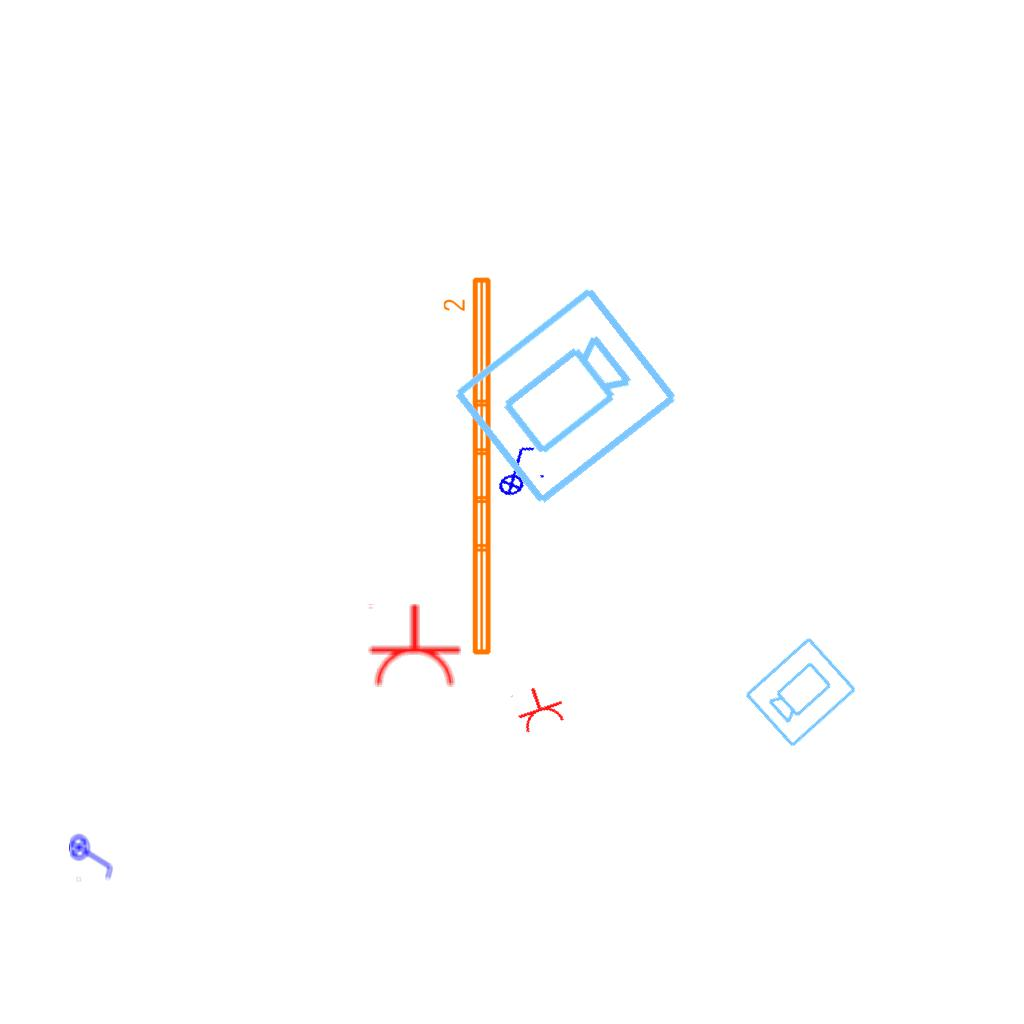Ambulanz_Pendelleuchte_LED: (441, 273, 497, 660)
Ausschalter_beleuchtet: (482, 439, 550, 501), (68, 828, 116, 884)
KFO_Kamera_mit_Festobjektiv: (446, 280, 686, 514), (740, 632, 861, 751)
Schukosteckdose_einfach: (363, 602, 463, 689), (507, 679, 570, 737)
